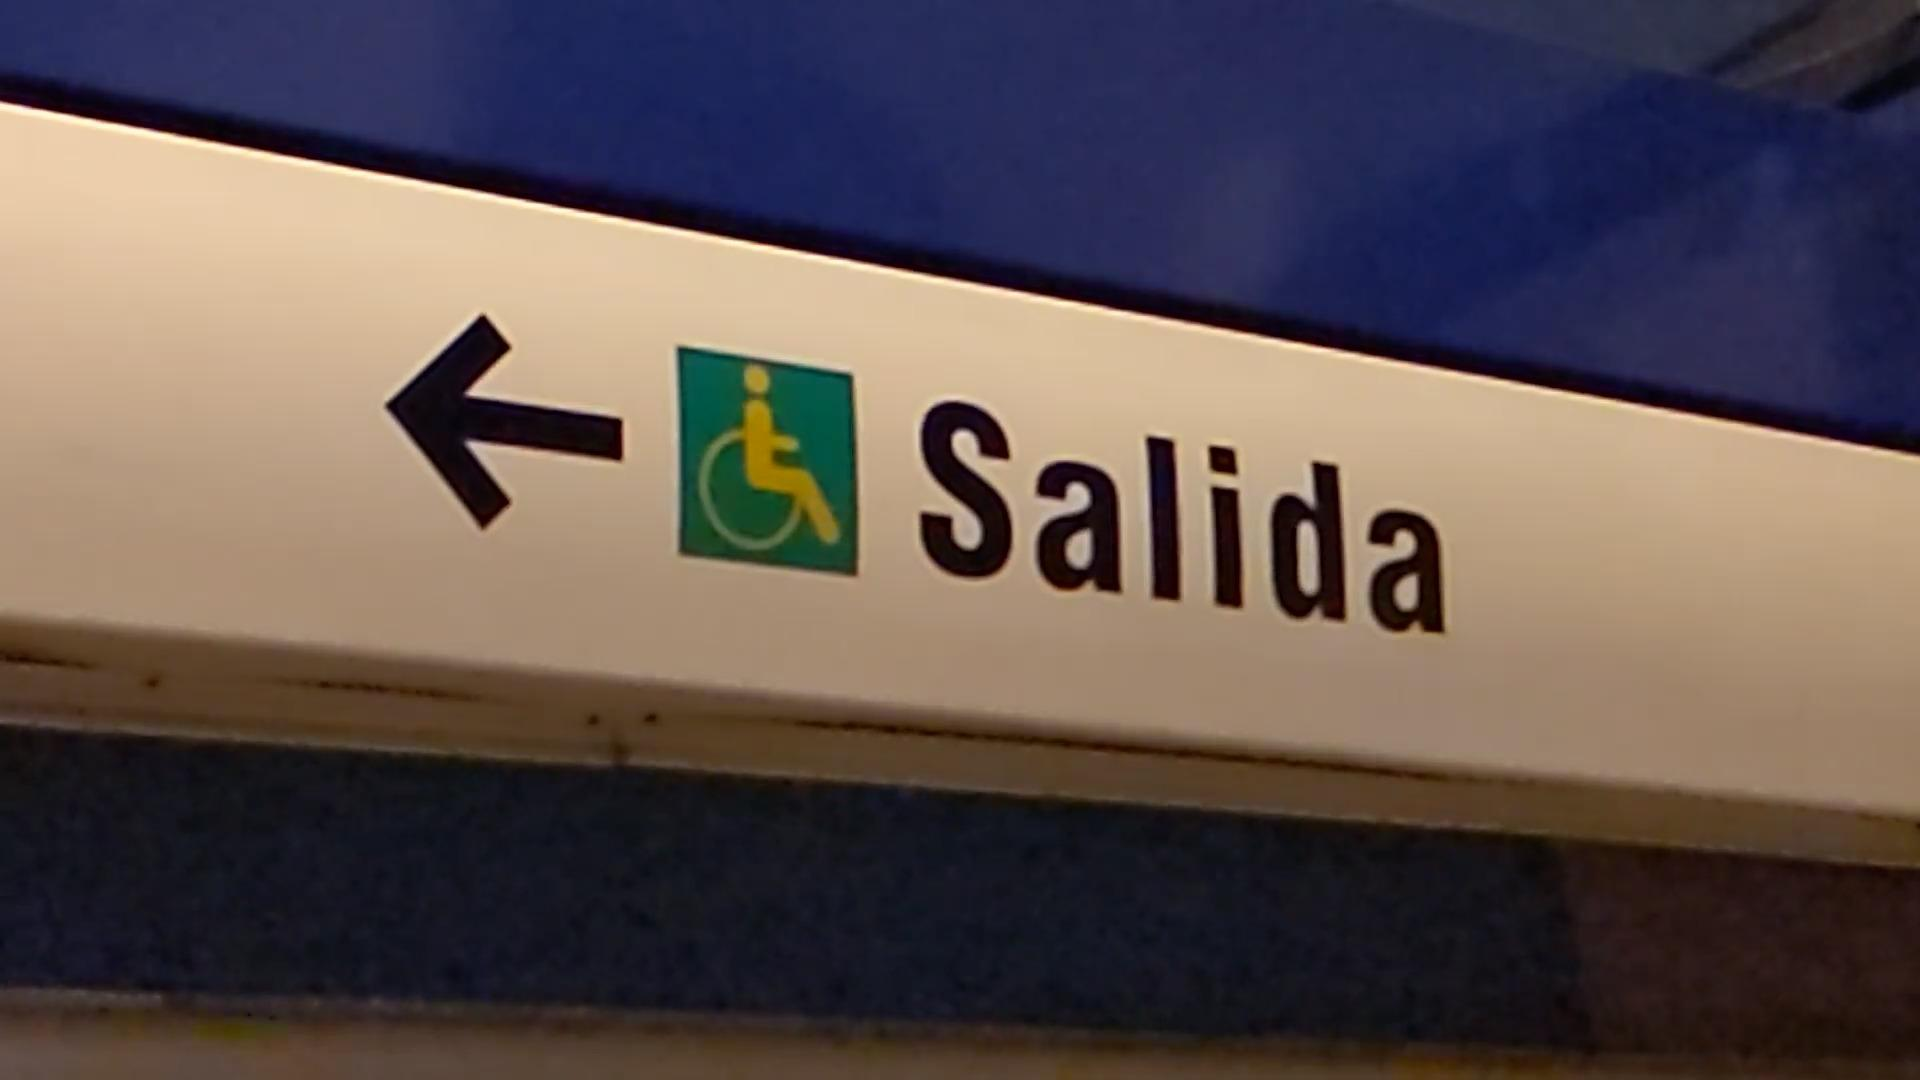handicapped symbol: (692, 359, 847, 556)
left arrow: (376, 305, 630, 535)
